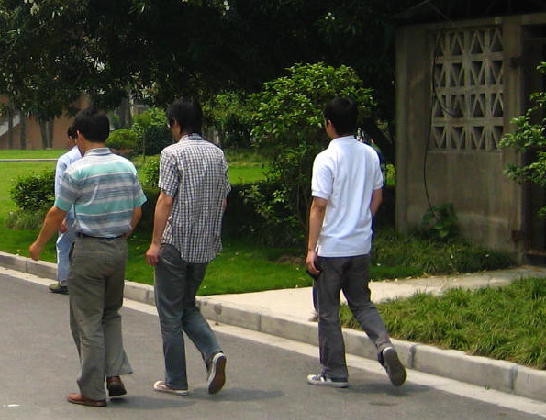pedestrian: (29, 111, 147, 407), (306, 97, 406, 387), (146, 100, 230, 395)
